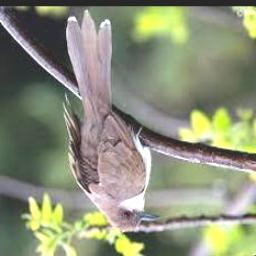Cuckoo: (62, 10, 159, 232)
